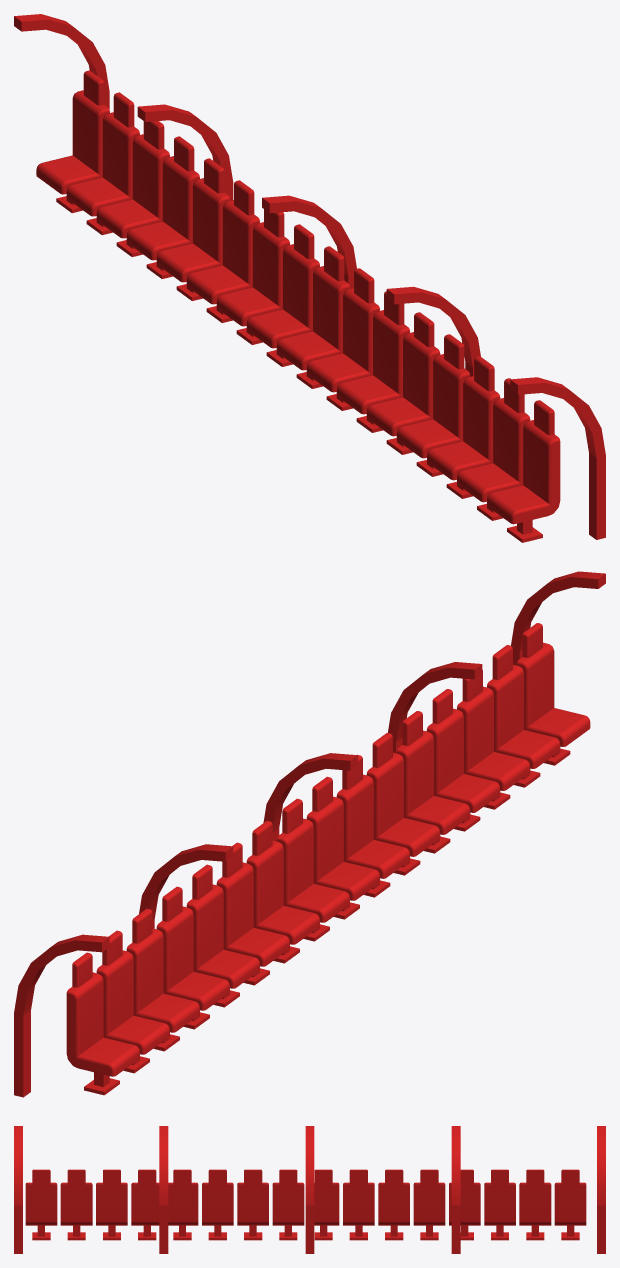
The picture shows the model from 3 angles, top to bottom: view 1: azimuth 30°, elevation 25°; view 2: azimuth 150°, elevation 25°; view 3: azimuth 270°, elevation 25°; orthographic projection. The views are drawn at different scales.
Visible parts, largest first — view 1: bench_A_01; view 2: bench_A_01; view 3: bench_A_01.
Boxes of the visible parts, x1,y1,x2,y2 form: bench_A_01: (14, 14, 605, 542); bench_A_01: (14, 571, 605, 1097); bench_A_01: (14, 1126, 605, 1253).
Bounding box in the file's own units: 1.36 × 2.58 × 13.5.
